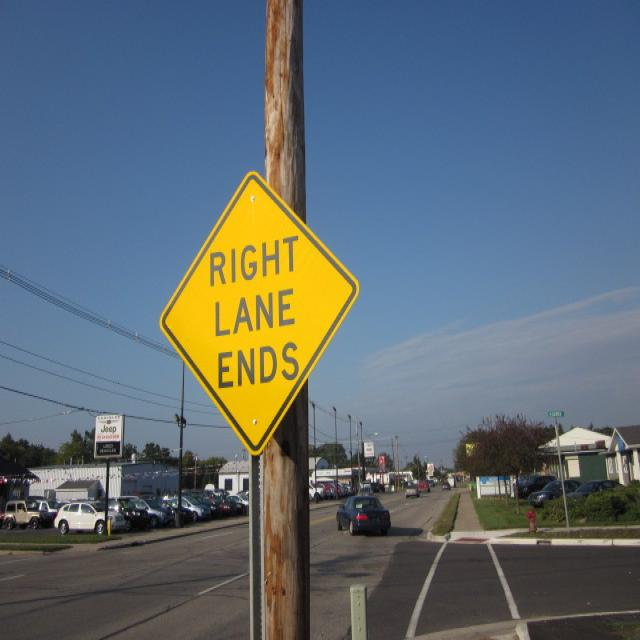warning: (154, 167, 359, 453)
